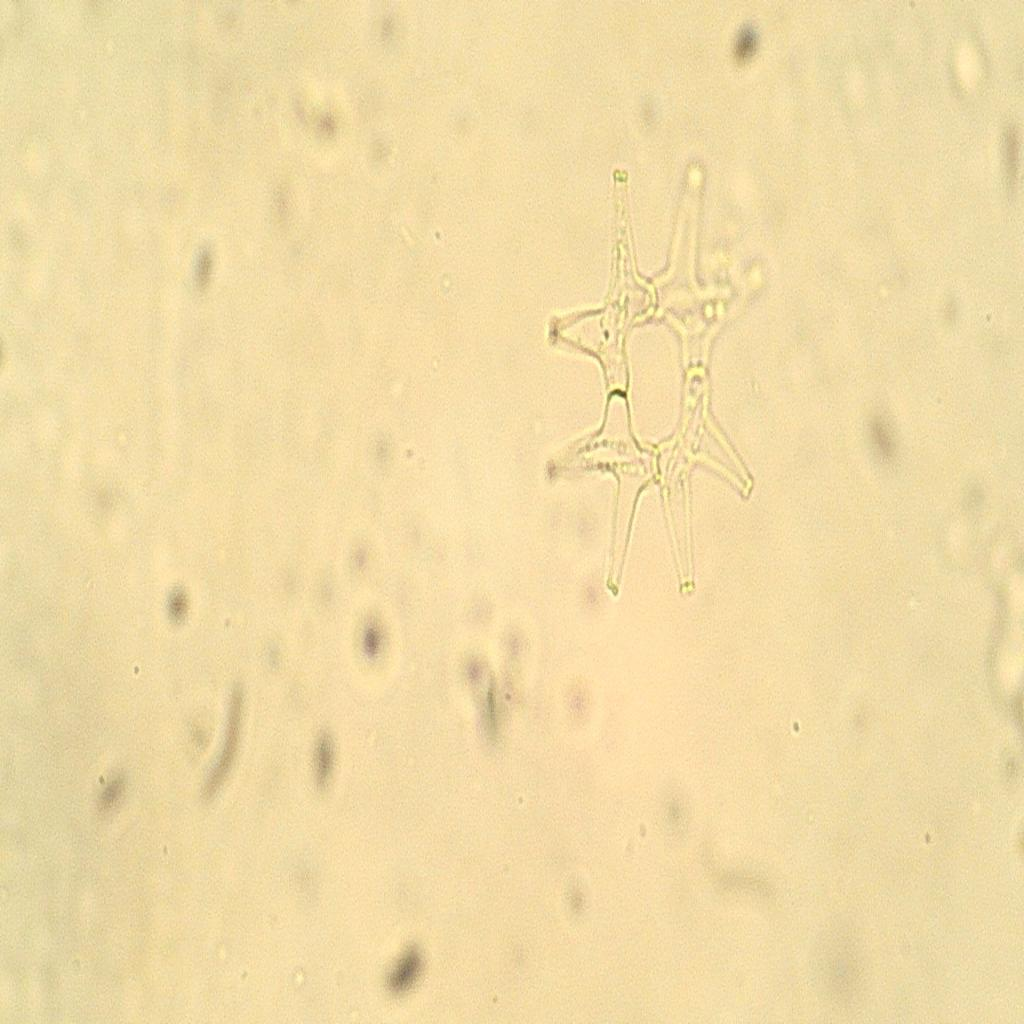Pediastrum_75TH: (538, 138, 764, 621)
